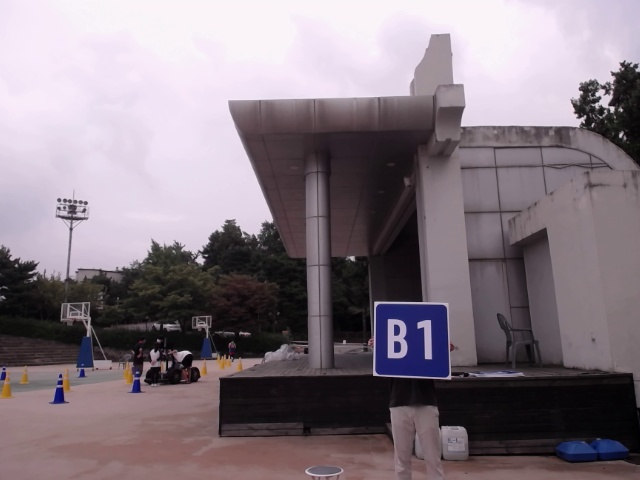delivery_b1: (374, 301, 451, 379)
